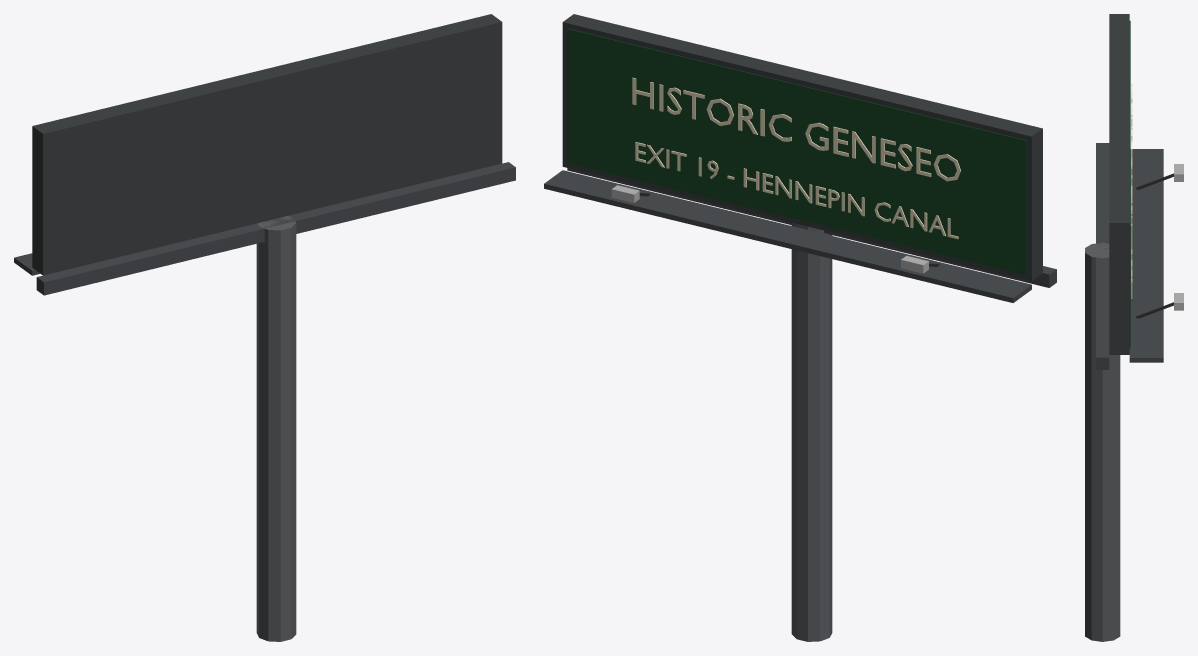
File: billboard_b.glb
The picture shows the model from 3 angles, left to right: view 1: azimuth 30°, elevation 25°; view 2: azimuth 150°, elevation 25°; view 3: azimuth 270°, elevation 25°; orthographic projection. The views are drawn at different scales.
Visible parts, largest first — view 1: billboard_b_lod0; view 2: billboard_b_lod0; view 3: billboard_b_lod0.
Part boxes in pixels (x1=…): billboard_b_lod0: x1=14, y1=14, x2=515, y2=641; billboard_b_lod0: x1=544, y1=14, x2=1056, y2=641; billboard_b_lod0: x1=1085, y1=14, x2=1183, y2=641.
Size of what is drawn, in the model's own units: 15 by 16.8 by 2.92.
